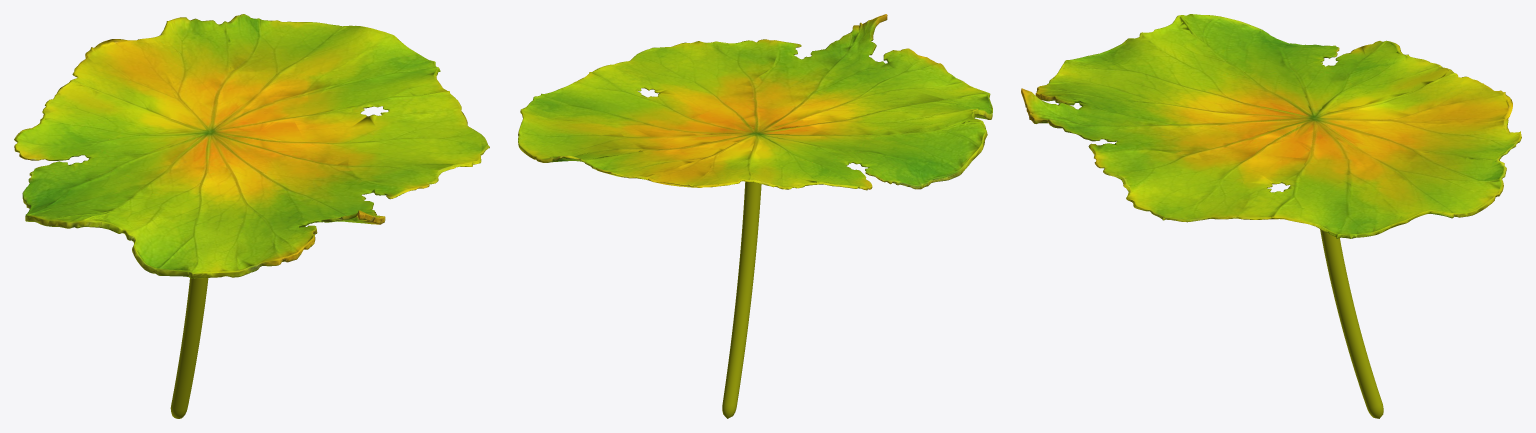
The picture shows the model from 3 angles, left to right: view 1: azimuth 30°, elevation 25°; view 2: azimuth 150°, elevation 25°; view 3: azimuth 270°, elevation 25°; orthographic projection. The views are drawn at different scales.
Parts seen in each view (by area): view 1: leaf; view 2: leaf; view 3: leaf.
Part boxes in pixels (x1=…): leaf: x1=14, y1=14, x2=489, y2=418; leaf: x1=518, y1=14, x2=992, y2=418; leaf: x1=1021, y1=14, x2=1521, y2=418.
Bounding box in the file's own units: 2.4 × 1.7 × 2.34.
Materials: 1 (1 with a texture image).
